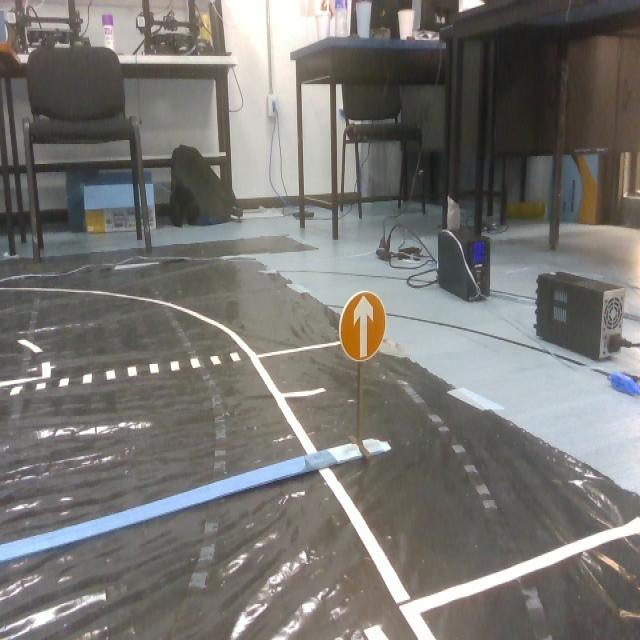right_turn: (338, 287, 390, 363)
